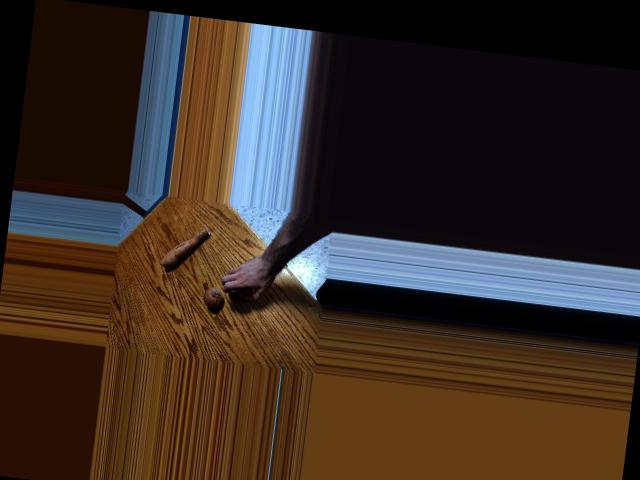onion: (227, 283, 251, 302)
